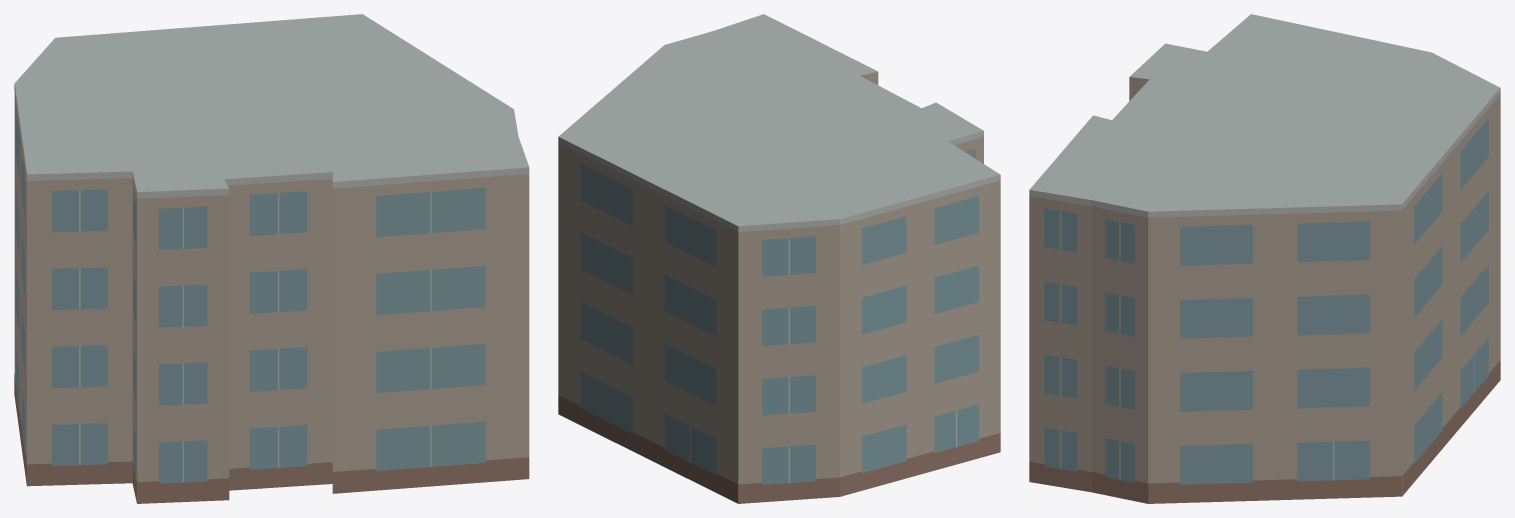
The model's file is survey-upis-32776782.glb.
3 renders of one model, left to right at view 1: azimuth 30°, elevation 25°; view 2: azimuth 150°, elevation 25°; view 3: azimuth 270°, elevation 25°, orthographic. The views are drawn at different scales.
Parts seen in each view (by area): view 1: survey-upis-32776782.tmp; view 2: survey-upis-32776782.tmp; view 3: survey-upis-32776782.tmp.
Part boxes in pixels (box(x1,y1,x2,y2)): survey-upis-32776782.tmp: box(14, 14, 529, 503); survey-upis-32776782.tmp: box(558, 14, 1000, 503); survey-upis-32776782.tmp: box(1029, 14, 1500, 503).
Bounding box in the file's own units: 16.7 × 11.5 × 16.82.
